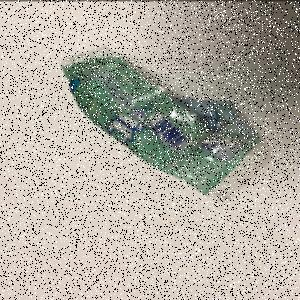Trash: (60, 46, 274, 205)
